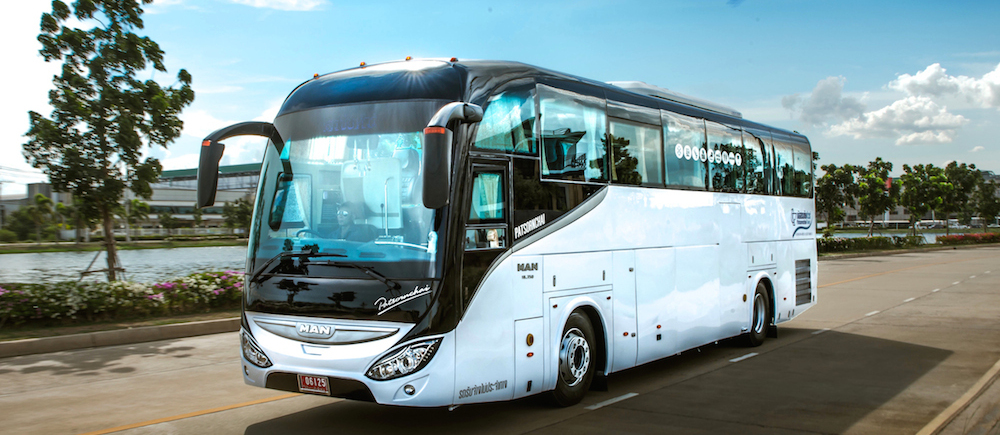bus: (240, 57, 818, 412)
